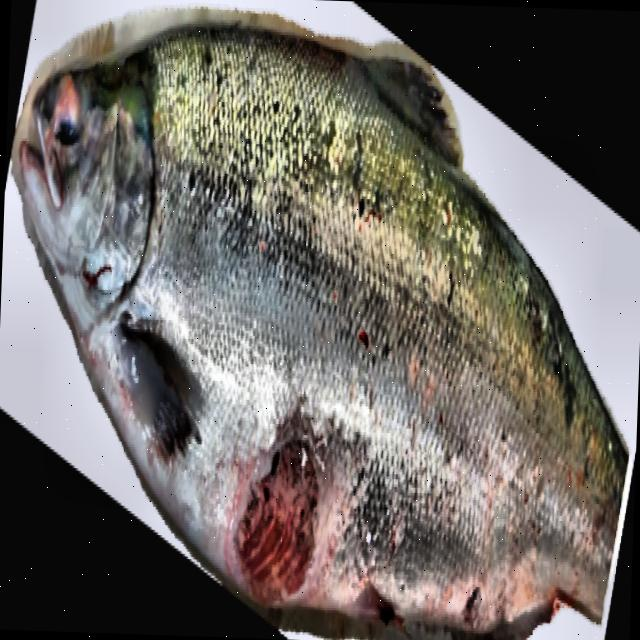mild_red: (143, 33, 627, 640)
wound: (223, 422, 323, 613)
